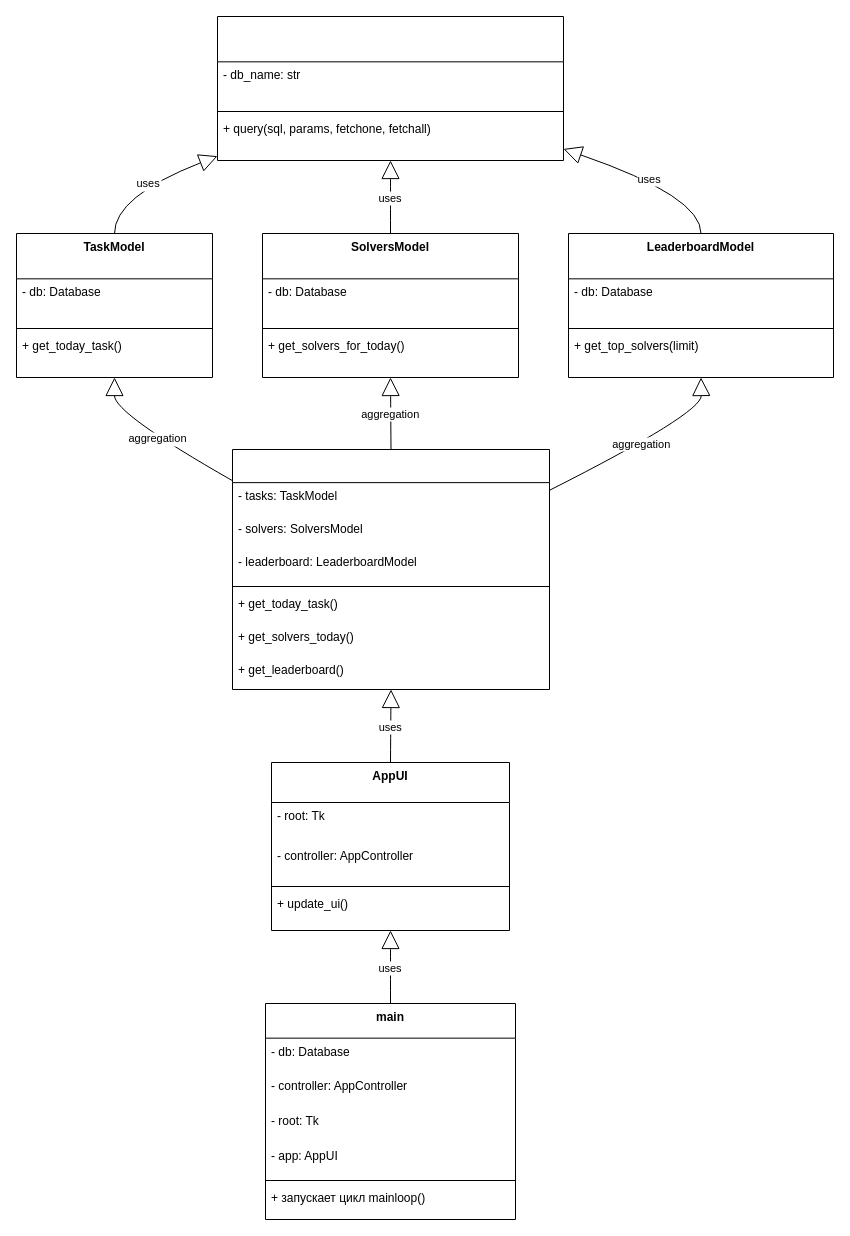
This 850x1236 diagram has some shape labels left out. The shapes that lost their labels are listed below. From the top down, each one's box as (x1, y1, x2, y2) in pixels, then its label:
(216, 16, 564, 160): Database
(232, 448, 550, 690): AppController
